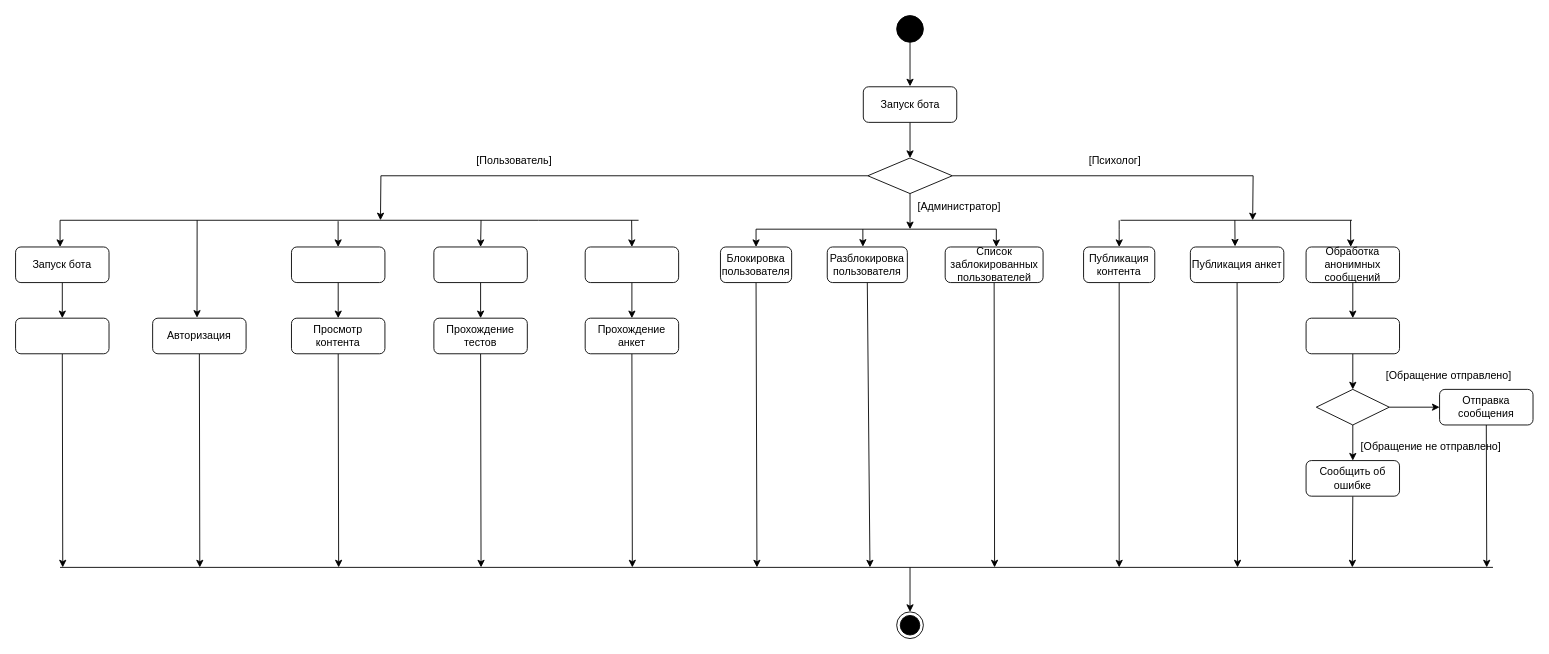
Image size: 1549x654. Some labels were removed from this diagram. Here are the shapes that lost their labels. From the top down, the centre of each, then its label:
point 338,264: Получение новостей и статей
point 480,264: Получение психологических тестов
point 631,264: Получение анкет от психологов
point 62,335: Приветственное сообщение
point 1352,335: Ответы на анонимные обращения
